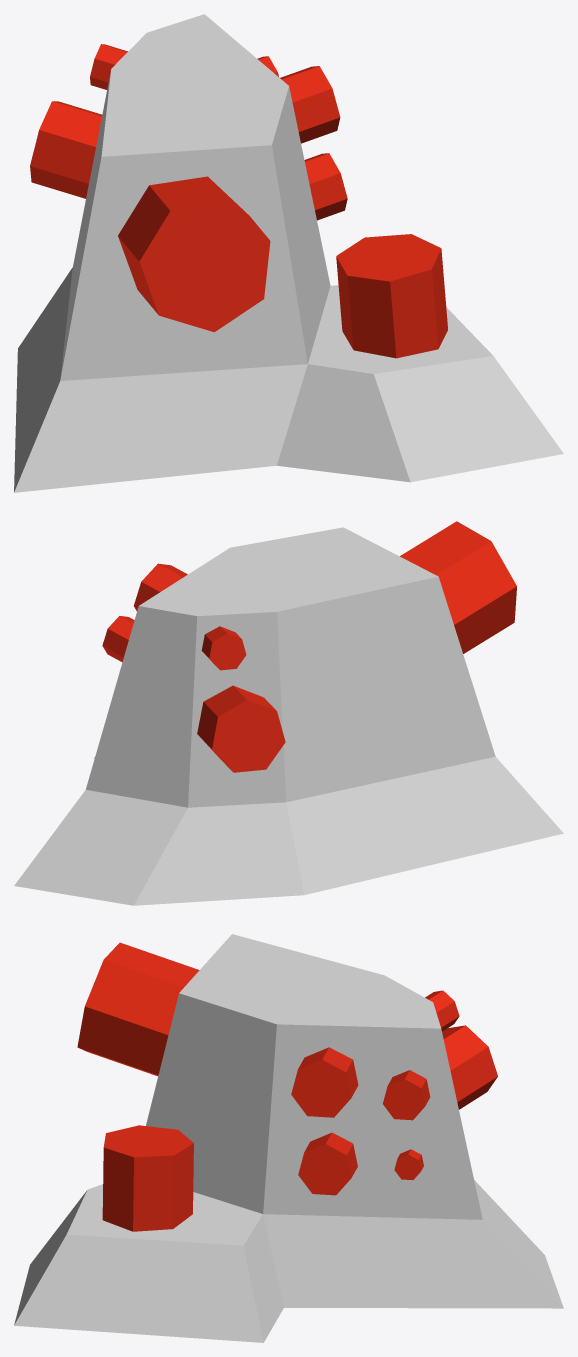
Rendered from Rubi_Tipo3.fbx.
3 renders of one model, top to bottom at view 1: azimuth 30°, elevation 25°; view 2: azimuth 150°, elevation 25°; view 3: azimuth 270°, elevation 25°, orthographic. The views are drawn at different scales.
Visible parts, largest first — view 1: base.022, rubi.006, rubi.007, rubi.013, rubi.008, rubi.010, rubi.012; view 2: base.022, rubi.006, rubi.013, rubi.012, rubi.008, rubi.009; view 3: base.022, rubi.006, rubi.007, rubi.008, rubi.013, rubi.010, rubi.009, rubi.012, rubi.011.
Part boxes in pixels (x1=…): base.022: x1=14, y1=14, x2=563, y2=492; rubi.006: x1=118, y1=176, x2=270, y2=332; rubi.007: x1=336, y1=234, x2=447, y2=358; rubi.013: x1=30, y1=101, x2=102, y2=198; rubi.008: x1=280, y1=66, x2=340, y2=143; rubi.010: x1=304, y1=153, x2=347, y2=220; rubi.012: x1=90, y1=44, x2=127, y2=89; base.022: x1=14, y1=527, x2=563, y2=905; rubi.006: x1=400, y1=521, x2=516, y2=653; rubi.013: x1=197, y1=685, x2=285, y2=772; rubi.012: x1=201, y1=626, x2=246, y2=670; rubi.008: x1=134, y1=563, x2=187, y2=610; rubi.009: x1=102, y1=616, x2=134, y2=662; base.022: x1=14, y1=934, x2=563, y2=1342; rubi.006: x1=77, y1=942, x2=199, y2=1076; rubi.007: x1=102, y1=1125, x2=193, y2=1231; rubi.008: x1=291, y1=1047, x2=358, y2=1117; rubi.013: x1=442, y1=1025, x2=497, y2=1109; rubi.010: x1=298, y1=1132, x2=357, y2=1195; rubi.009: x1=383, y1=1070, x2=430, y2=1120; rubi.012: x1=425, y1=990, x2=459, y2=1031; rubi.011: x1=394, y1=1149, x2=423, y2=1180.
Size of the model in its own units: 75.27 by 41.9 by 83.81.
